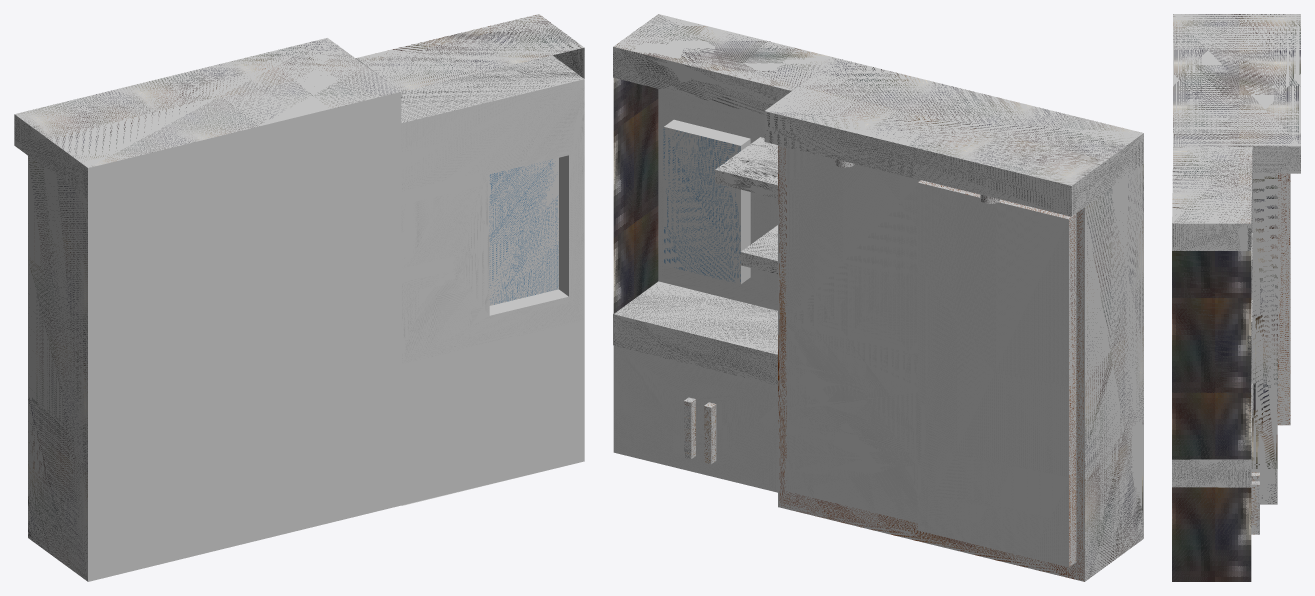
3 renders of one model, left to right at view 1: azimuth 30°, elevation 25°; view 2: azimuth 150°, elevation 25°; view 3: azimuth 270°, elevation 25°, orthographic. The views are drawn at different scales.
Parts seen in each view (by area): view 1: mesh1_mesh1-geometry; view 2: mesh1_mesh1-geometry; view 3: mesh1_mesh1-geometry.
Boxes of the visible parts, x1,y1,x2,y2 form: mesh1_mesh1-geometry: (14,14,584,581); mesh1_mesh1-geometry: (613,14,1143,581); mesh1_mesh1-geometry: (1172,14,1300,581).
Size of the model in its own units: 0.7665 by 0.6107 by 0.199.
